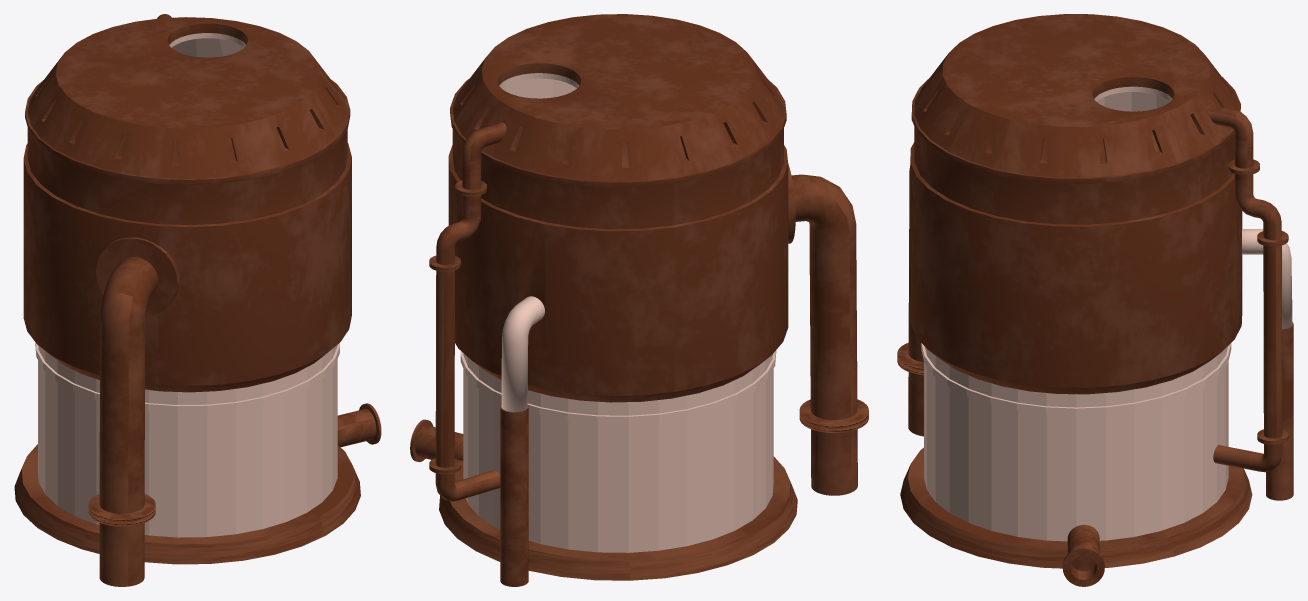
The model's file is Final_Fuel tank 3.glb.
3 renders of one model, left to right at view 1: azimuth 30°, elevation 25°; view 2: azimuth 150°, elevation 25°; view 3: azimuth 270°, elevation 25°, orthographic. The views are drawn at different scales.
Parts seen in each view (by area): view 1: tank body.002, Base.002, Cylinder.029, Cylinder.023, Cylinder.027, Cylinder.030; view 2: tank body.002, Base.002, Cylinder.029, Cylinder.023, Cylinder.028, Cylinder.025, Cylinder.024, Cylinder.030, Cylinder.027; view 3: tank body.002, Base.002, Cylinder.023, Cylinder.028, Cylinder.025, Cylinder.027, Cylinder.029, Cylinder.024.
Part boxes in pixels (x1,y1,x2,y2): tank body.002: (23,17,351,392); Base.002: (35,33,339,537); Cylinder.029: (96,237,179,586); Cylinder.023: (14,444,360,564); Cylinder.027: (337,403,381,447); Cylinder.030: (88,494,155,526); tank body.002: (448,14,788,402); Base.002: (460,73,776,552); Cylinder.029: (788,164,857,495); Cylinder.023: (439,456,797,580); Cylinder.028: (435,122,506,501); Cylinder.025: (500,404,528,586); Cylinder.024: (501,296,544,411); Cylinder.030: (799,399,868,432); Cylinder.027: (410,419,463,462); tank body.002: (910,14,1242,394); Base.002: (921,86,1231,541); Cylinder.023: (900,447,1252,568); Cylinder.028: (1207,105,1282,472); Cylinder.025: (1266,322,1293,500); Cylinder.027: (1062,524,1104,586); Cylinder.029: (908,166,923,436); Cylinder.024: (1242,229,1292,329).
Size of the model in its own units: 5.19 by 5.88 by 4.97.
5 materials, 4 textured.
